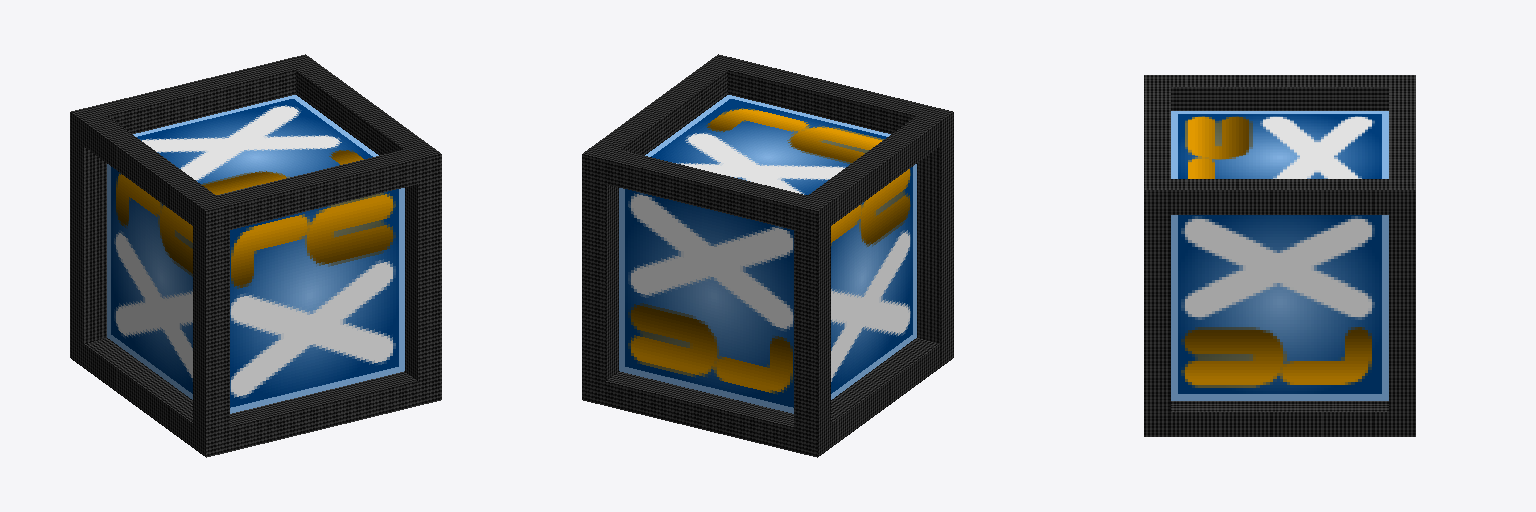
3 views of the same model, side by side, from view 1: azimuth 30°, elevation 25°; view 2: azimuth 150°, elevation 25°; view 3: azimuth 270°, elevation 25° (orthographic).
Visible parts, largest first — view 1: box; view 2: box; view 3: box.
Boxes of the visible parts, <box> form: box: <box>70,54,441,457</box>; box: <box>582,54,953,457</box>; box: <box>1144,75,1415,436</box>.
Size of the model in its own units: 1 by 1 by 1.
Materials: 2 (2 with a texture image).